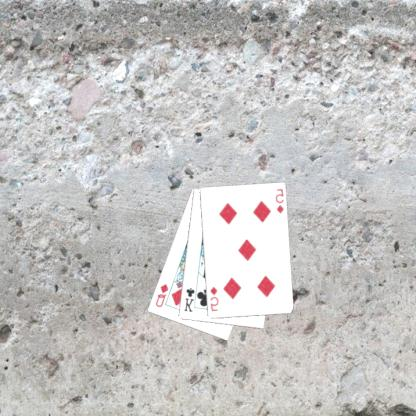5D: (209, 284, 222, 313), (274, 186, 286, 215)
KC: (183, 284, 200, 313)
QD: (154, 281, 172, 309)
